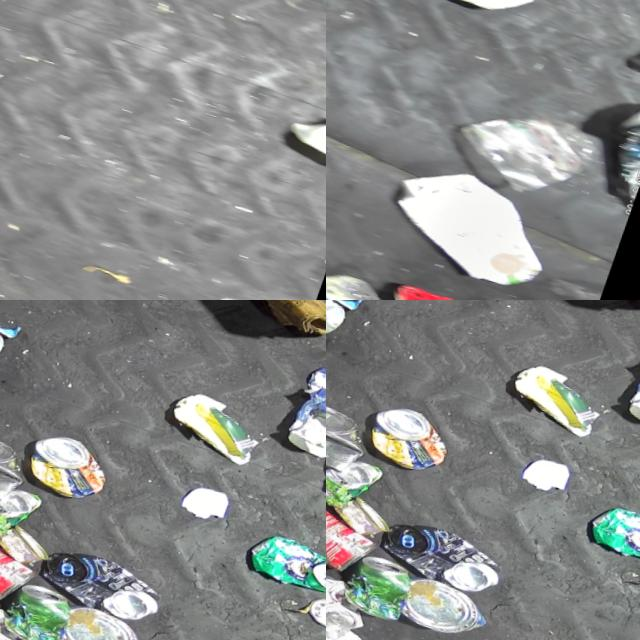can: (40, 536, 178, 624), (381, 508, 519, 596), (24, 422, 122, 502), (365, 394, 463, 474), (406, 567, 504, 640), (326, 478, 393, 576), (348, 543, 427, 618), (248, 518, 326, 592), (7, 571, 86, 640), (0, 506, 52, 604), (326, 384, 381, 474), (326, 443, 391, 512), (64, 595, 163, 640), (326, 559, 386, 633), (333, 485, 404, 539), (589, 490, 640, 564), (385, 265, 489, 300), (0, 412, 40, 502), (0, 471, 50, 540), (0, 513, 62, 567), (0, 587, 45, 640), (311, 581, 326, 623)
milk_jug: (378, 144, 583, 290)
